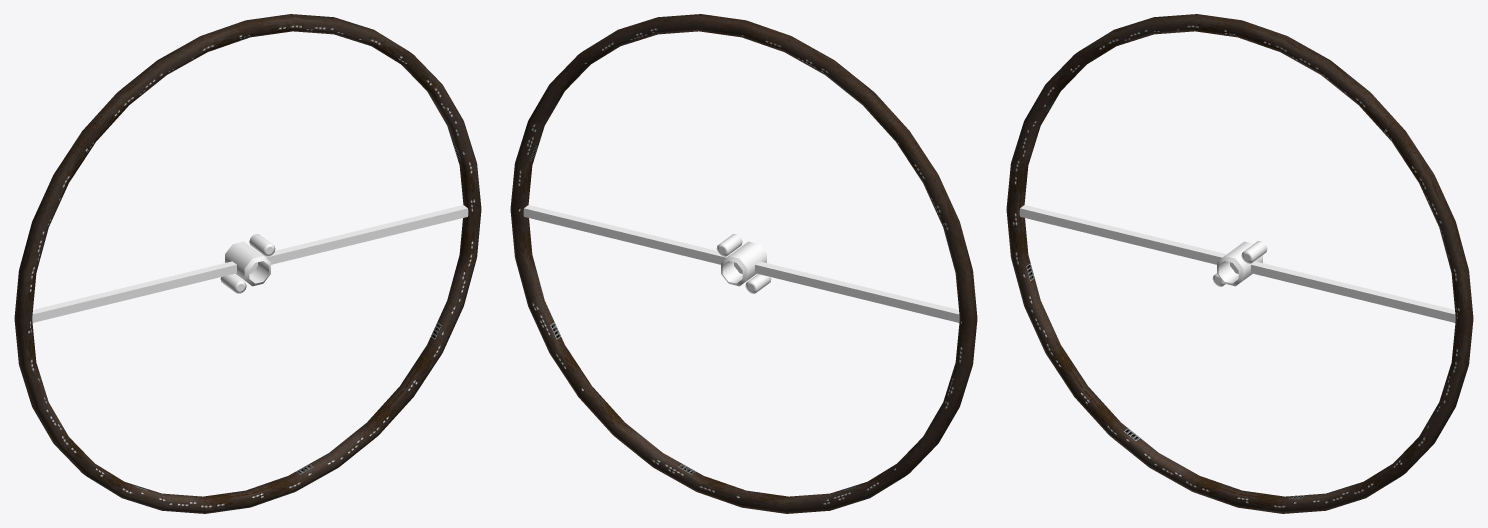
The model's file is wheel.obj.
3 views of the same model, side by side, from view 1: azimuth 30°, elevation 25°; view 2: azimuth 150°, elevation 25°; view 3: azimuth 330°, elevation 25° (orthographic).
Visible parts, largest first — view 1: group0, group2, group1, group3; view 2: group0, group2, group1, group3; view 3: group0, group1, group2, group3.
Part boxes in pixels (bbox=[...]): group0: bbox=[14, 14, 481, 513]; group2: bbox=[32, 261, 236, 322]; group1: bbox=[261, 205, 468, 264]; group3: bbox=[225, 241, 270, 286]; group0: bbox=[510, 14, 977, 513]; group2: bbox=[755, 261, 959, 322]; group1: bbox=[523, 205, 730, 264]; group3: bbox=[721, 241, 766, 286]; group0: bbox=[1006, 14, 1473, 513]; group1: bbox=[1251, 261, 1455, 322]; group2: bbox=[1019, 205, 1226, 264]; group3: bbox=[1217, 241, 1262, 286].
Size of the model in its own units: 514 by 514 by 44.
3 materials, 1 textured.
